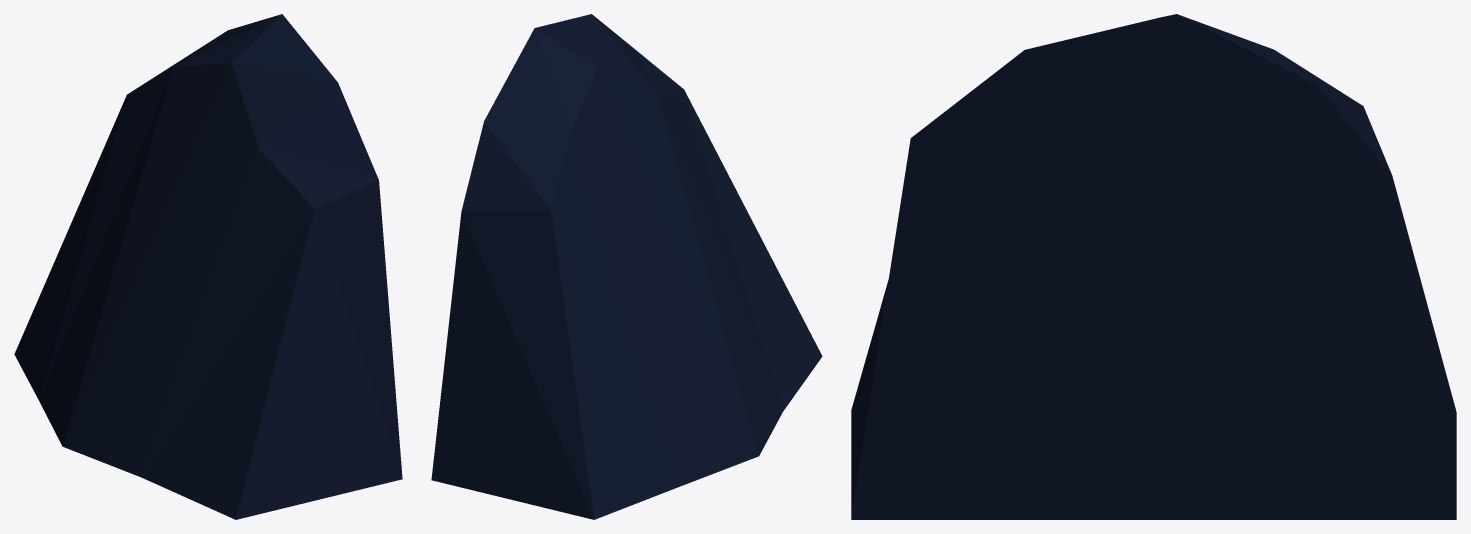
File: obstacle_roller_block.FBX
3 views of the same model, side by side, from view 1: azimuth 30°, elevation 25°; view 2: azimuth 150°, elevation 25°; view 3: azimuth 270°, elevation 25° (orthographic). The views are drawn at different scales.
Parts seen in each view (by area): view 1: roller_block; view 2: roller_block; view 3: roller_block.
Part boxes in pixels (x1,y1,x2,y2): roller_block: (14,14,402,519); roller_block: (431,14,822,519); roller_block: (851,14,1456,519).
Bounding box in the file's own units: 1.34 × 2.17 × 2.35.
